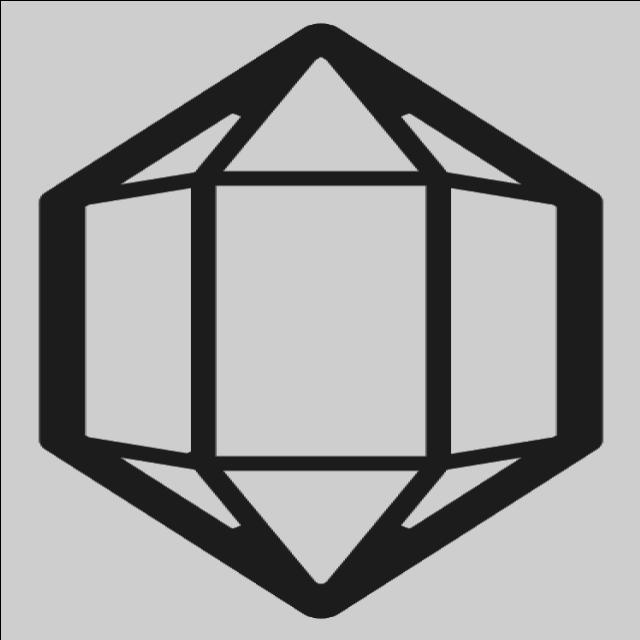crystal: (17, 7, 629, 631)
